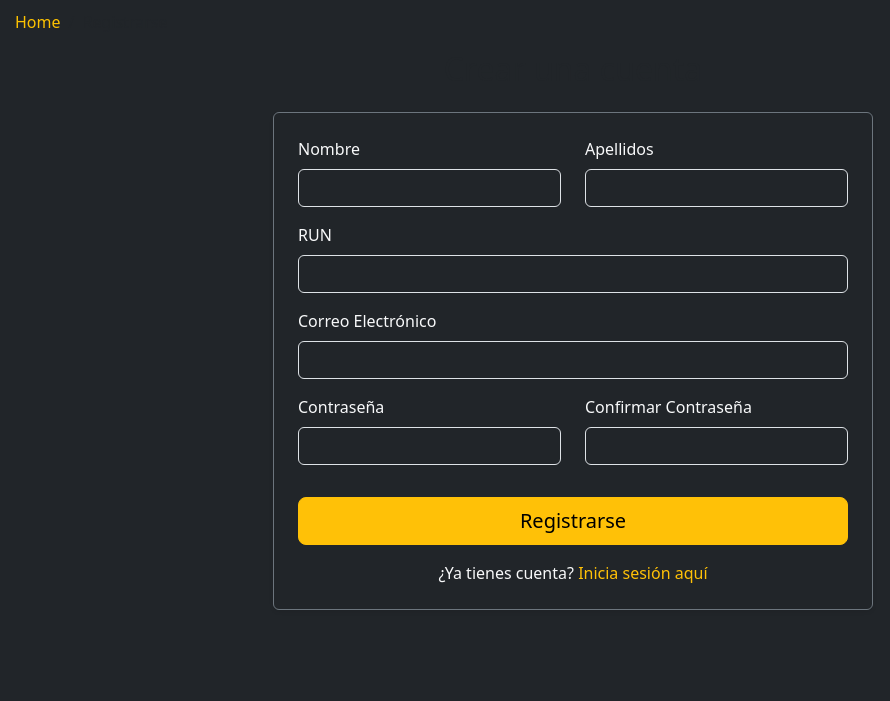
Test: Registro - validaciones › muestra error si las contraseñas no coinciden
The image size is (890, 701).
Type "Ana" into the field below "Nombre" at [430, 188], box [298,169,561,207]
Type "Pérez" into the field below "Apellidos" at [716, 188], box [585,169,848,207]
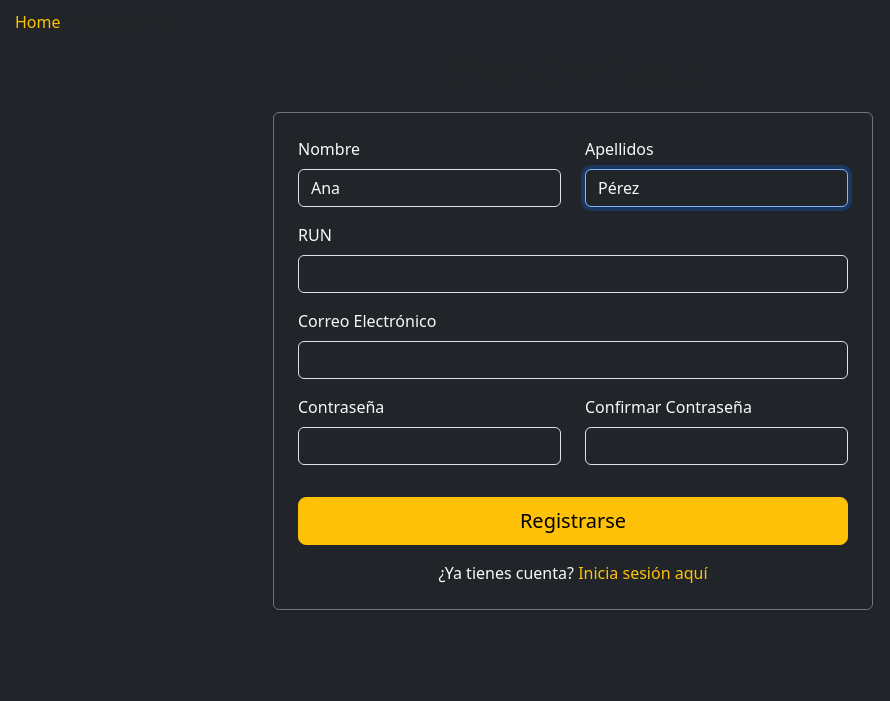
Type "12345678-9" into the field below "RUN" at [573, 274], box [298,255,848,293]
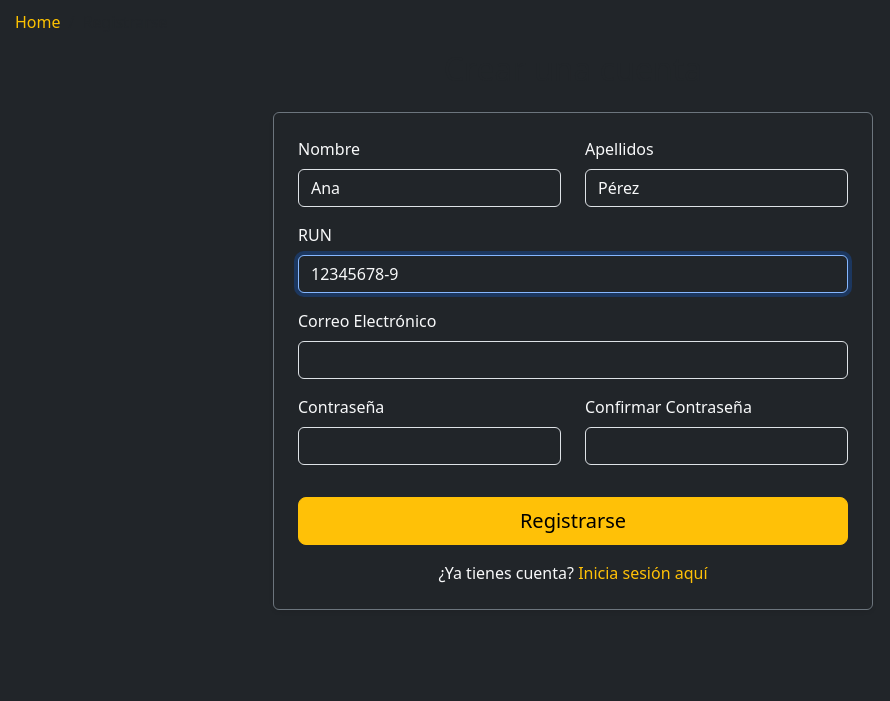
Type "Ana@Correo.cl" into the field below "Correo Electrónico" at [573, 360], box [298,341,848,379]
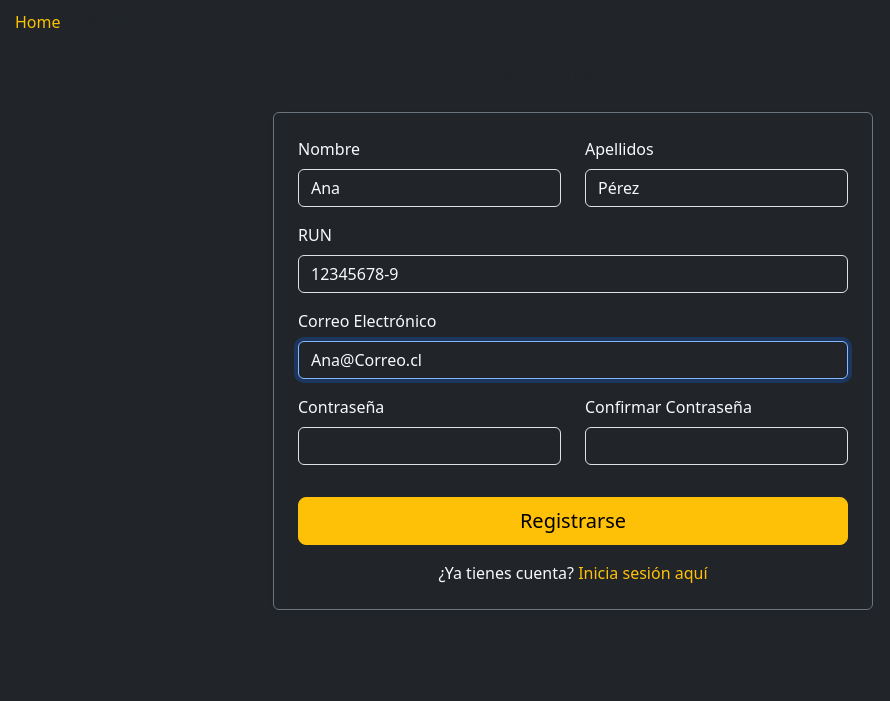
Type "clave123" into the 1st password field at [430, 446], box [298,427,561,465]
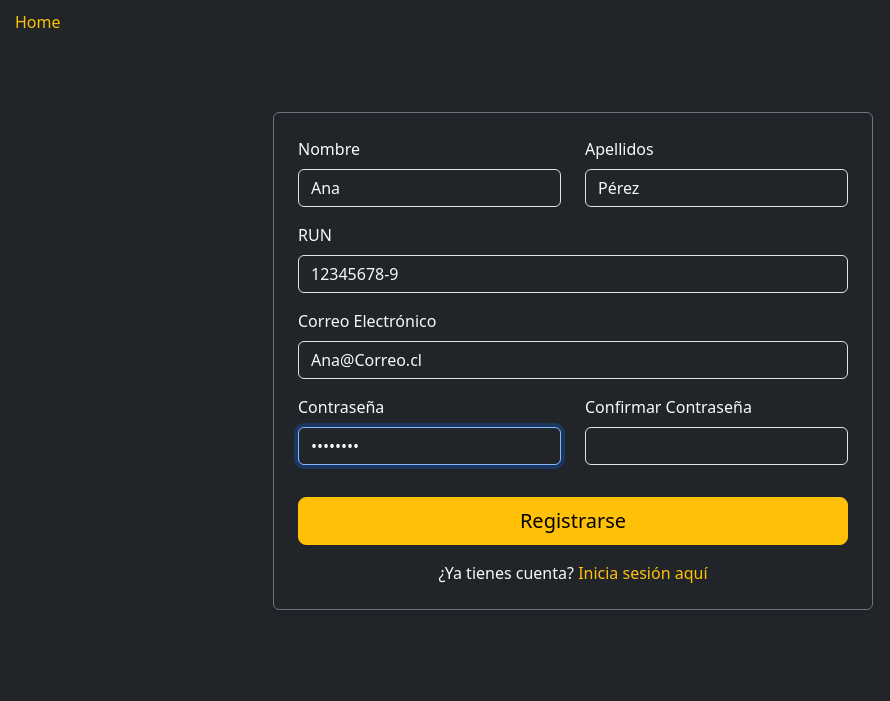
Type "otra-clave" into the password field below "Confirmar Contraseña" at [716, 446], box [585,427,848,465]
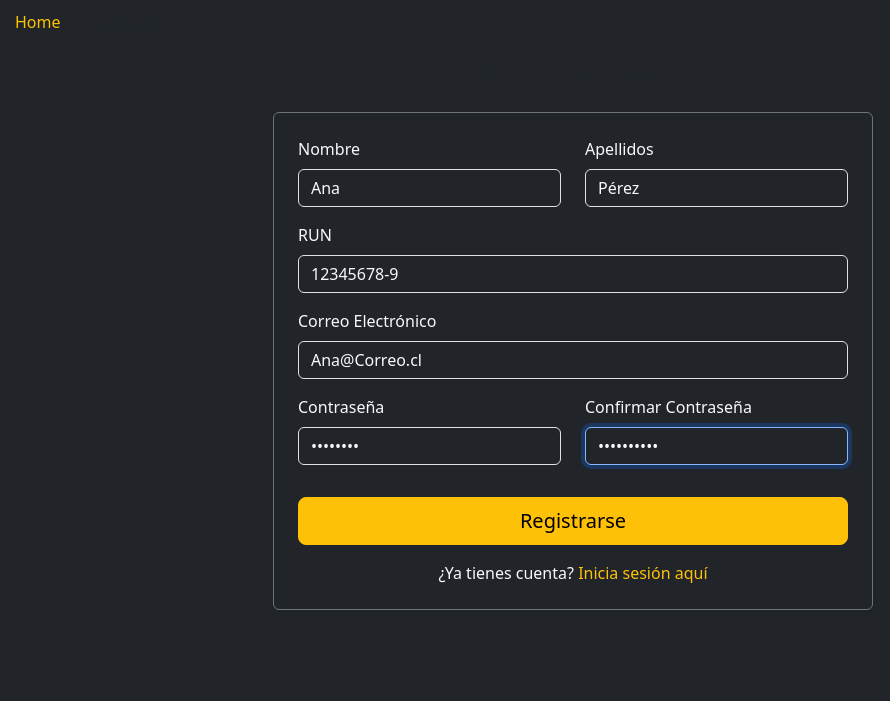
Click the button "Registrarse" at [573, 521], box [298,497,848,545]
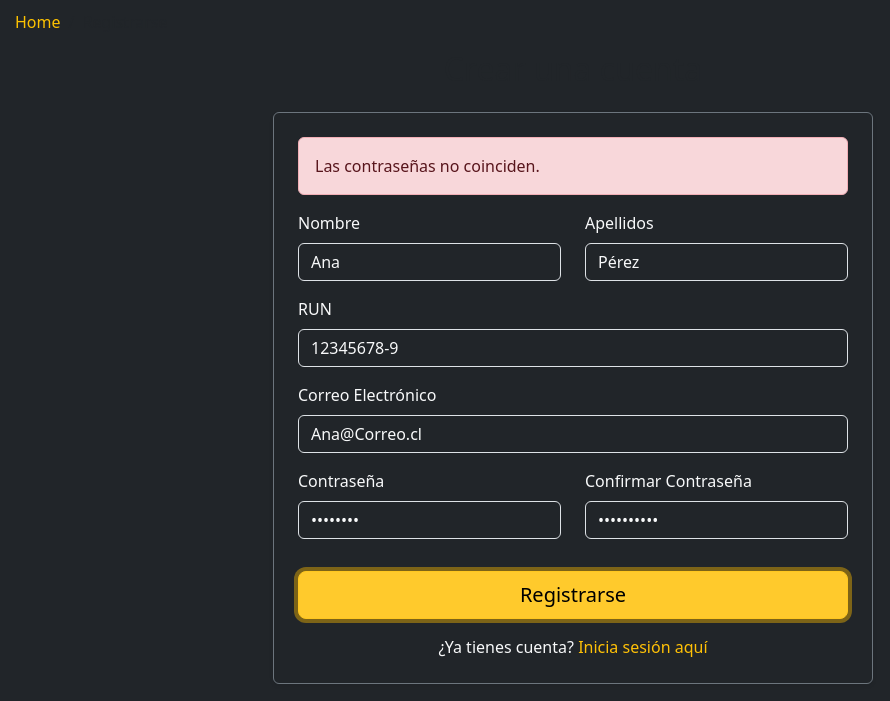
Now the text "Las contraseñas no coinciden." is shown, box [298,137,848,195]
